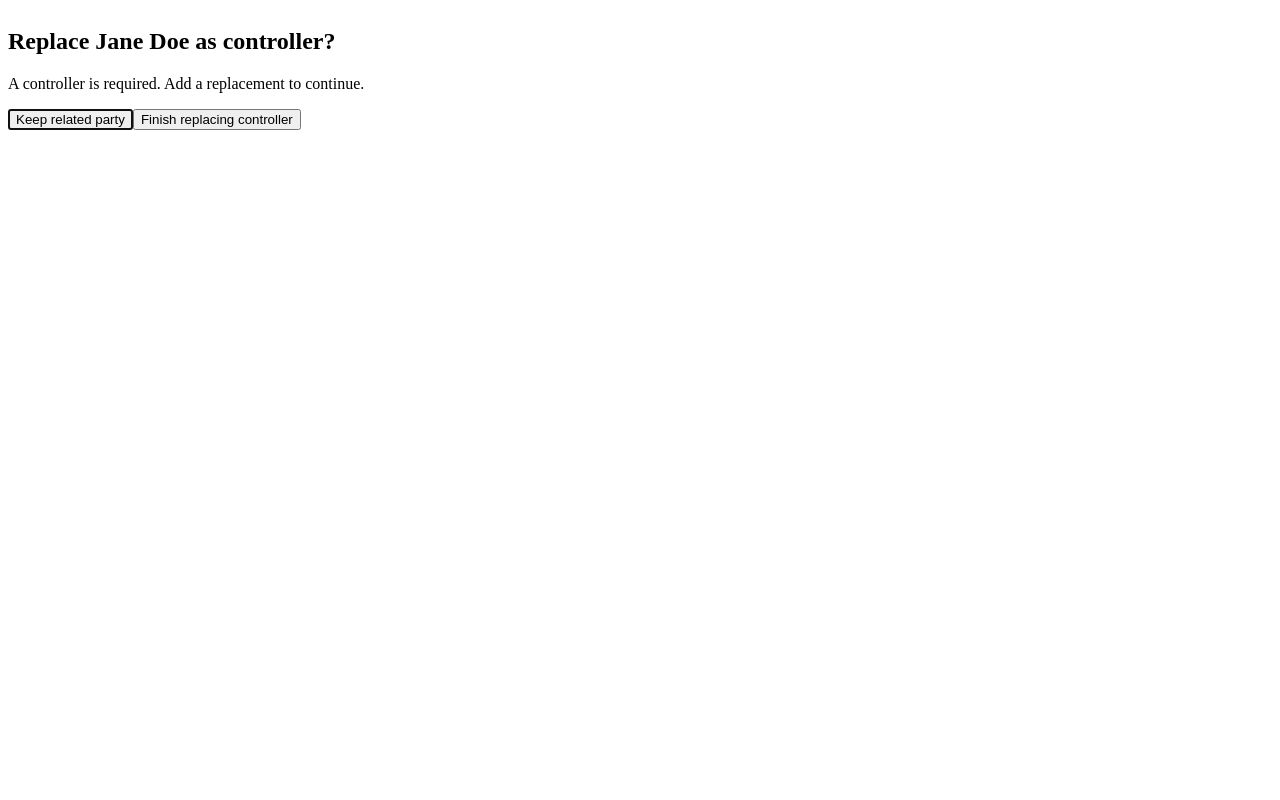
Test case: maintenance dialog presentation › asks nothing extra when the outgoing controller is not an owner and blocks the dialog while saving
Click the button "Finish replacing controller": (217, 119) [133, 109, 301, 130]
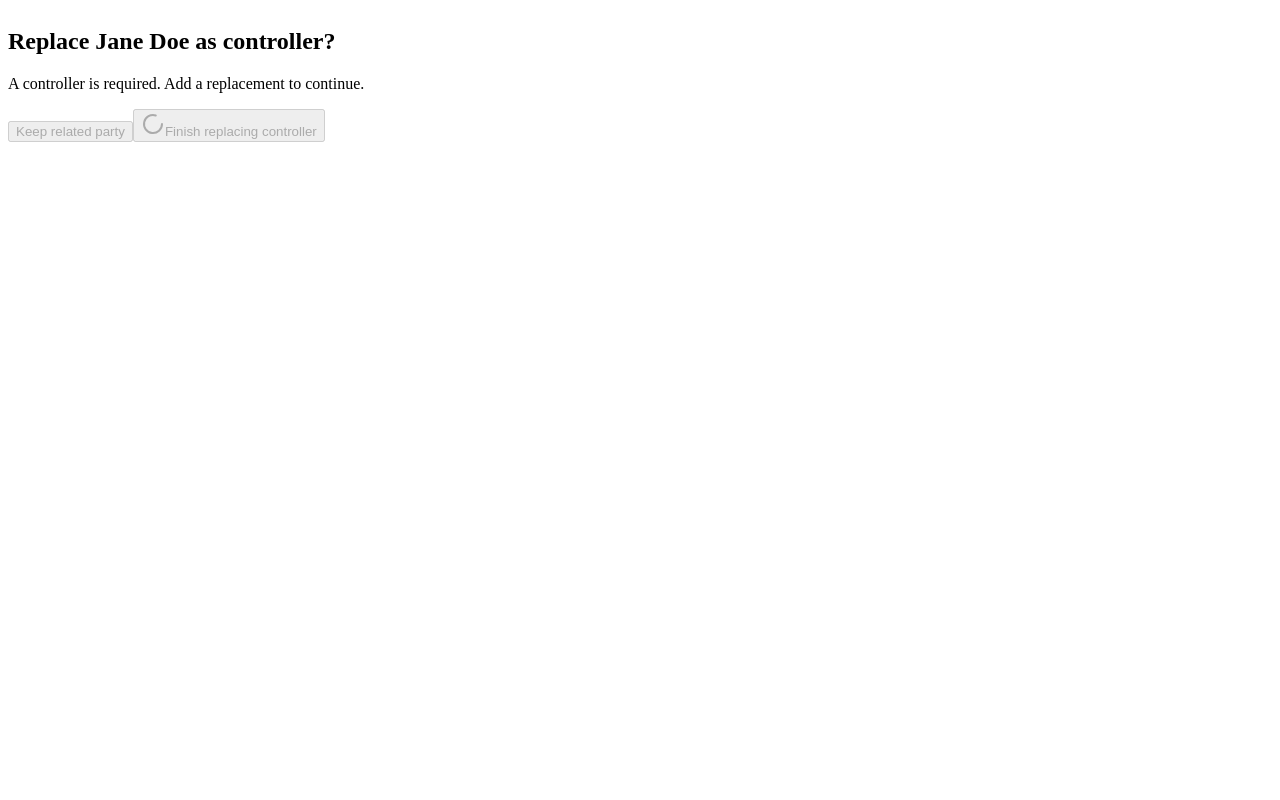
Expected: the button "Finish replacing controller" is disabled
Expected: the button "Keep related party" is disabled, [8, 121, 133, 142]
Click the button "Finish replacing controller": (229, 125) [133, 109, 325, 142]
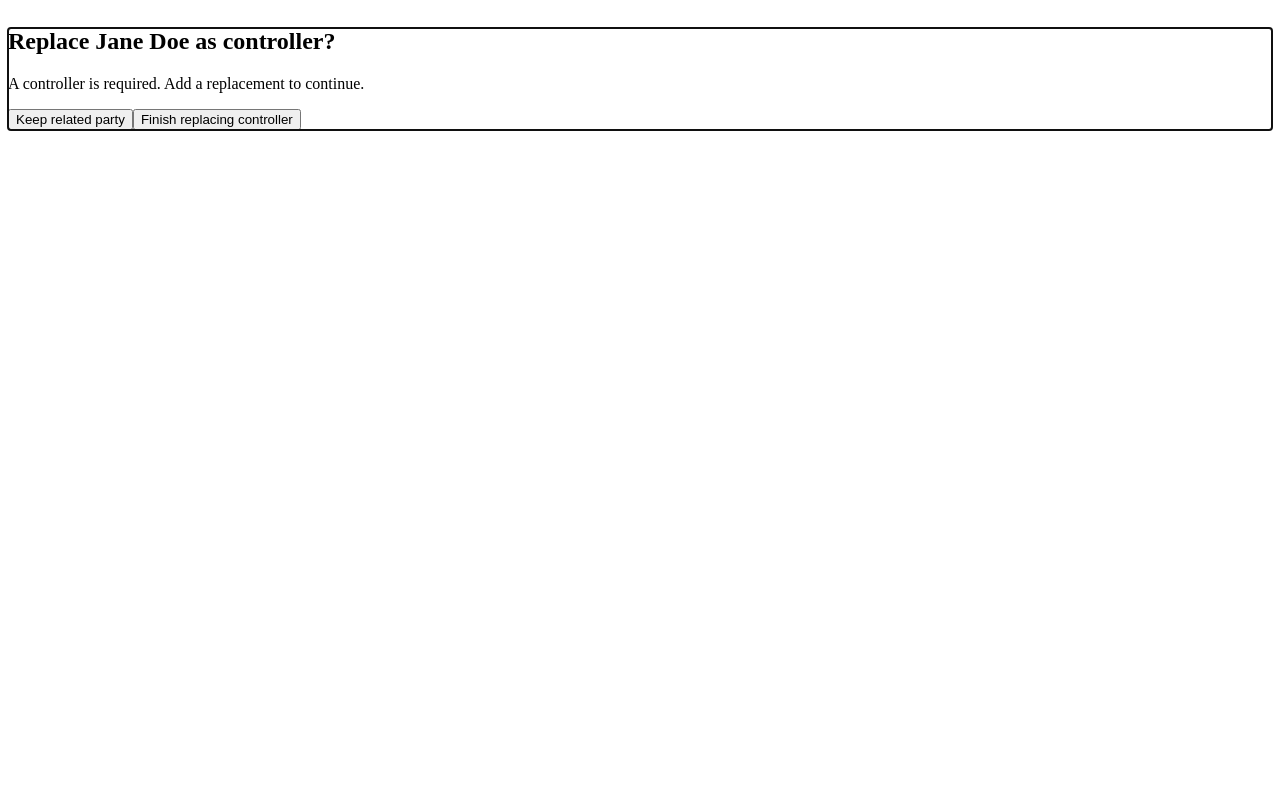
Expected: the button "Finish replacing controller" is enabled, [133, 109, 301, 130]
